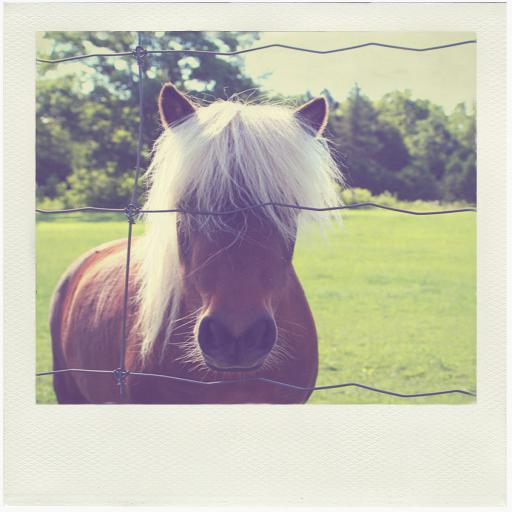horse: (46, 78, 348, 410)
